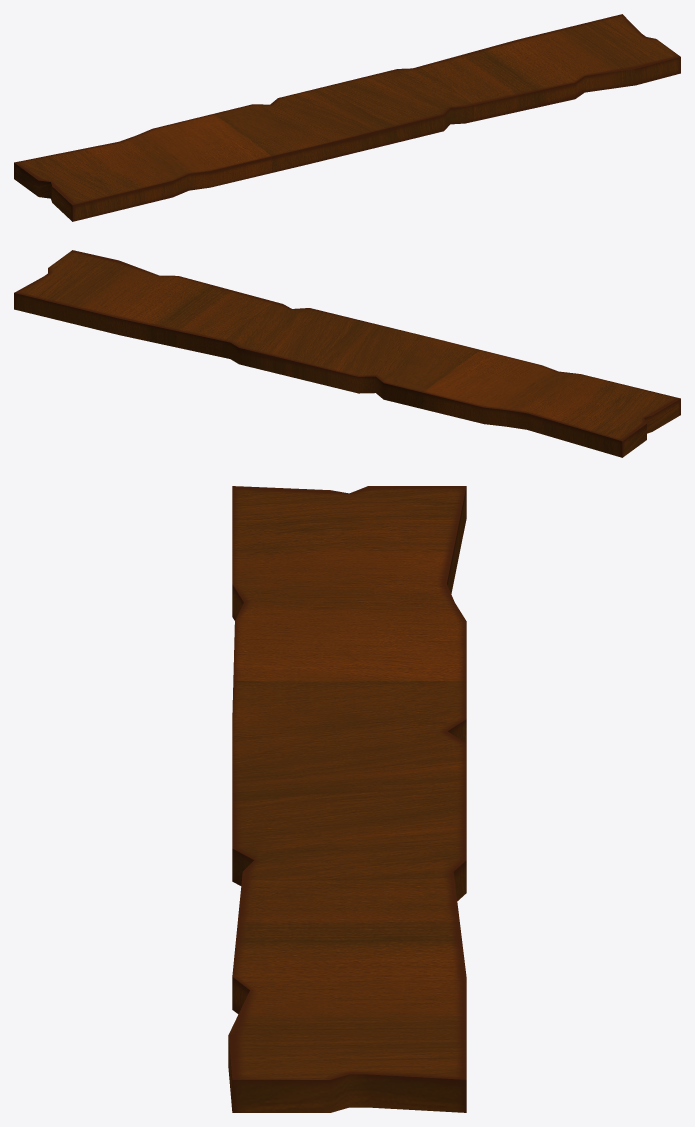
The model's file is Kapot plank.FBX.
3 renders of one model, top to bottom at view 1: azimuth 30°, elevation 25°; view 2: azimuth 150°, elevation 25°; view 3: azimuth 270°, elevation 25°, orthographic. The views are drawn at different scales.
Parts seen in each view (by area): view 1: PlankKapot001; view 2: PlankKapot001; view 3: PlankKapot001.
Part boxes in pixels (box(x1,y1,x2,y2)): PlankKapot001: box(14, 14, 680, 221); PlankKapot001: box(14, 250, 680, 457); PlankKapot001: box(228, 486, 466, 1112).
Bounding box in the file's own units: 59.06 × 1.54 × 10.
Materials: 1 (1 with a texture image).
